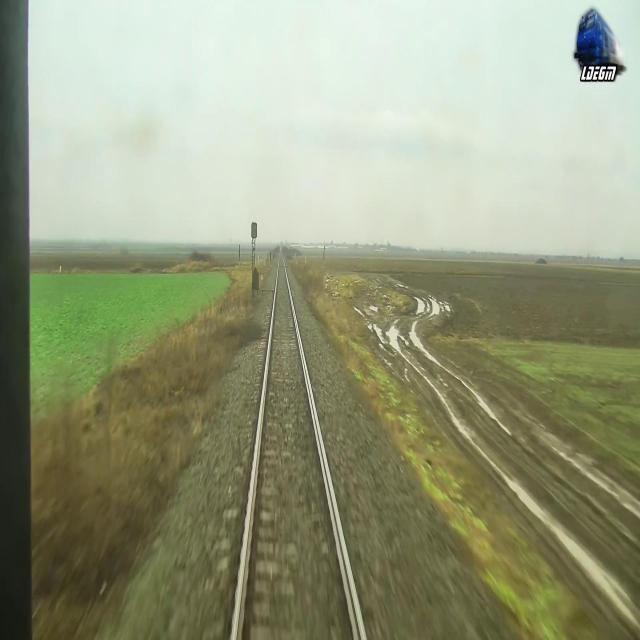rail-track: (236, 252, 362, 639)
